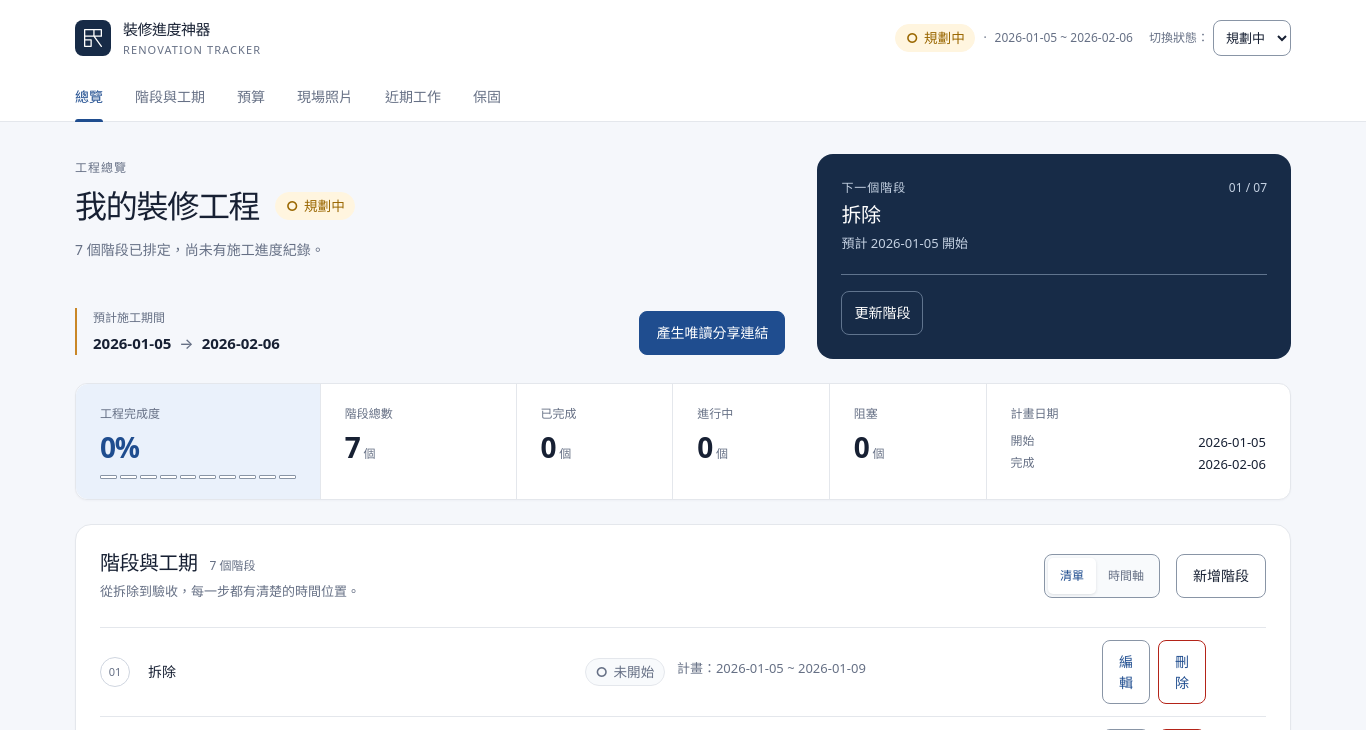
Test case: Dashboard — AC-FR001-04 form validation › rejects empty stage name with a readable error
Click the button with test id "add-stage" at (1221,576), box left=1176, top=554, right=1266, bottom=598
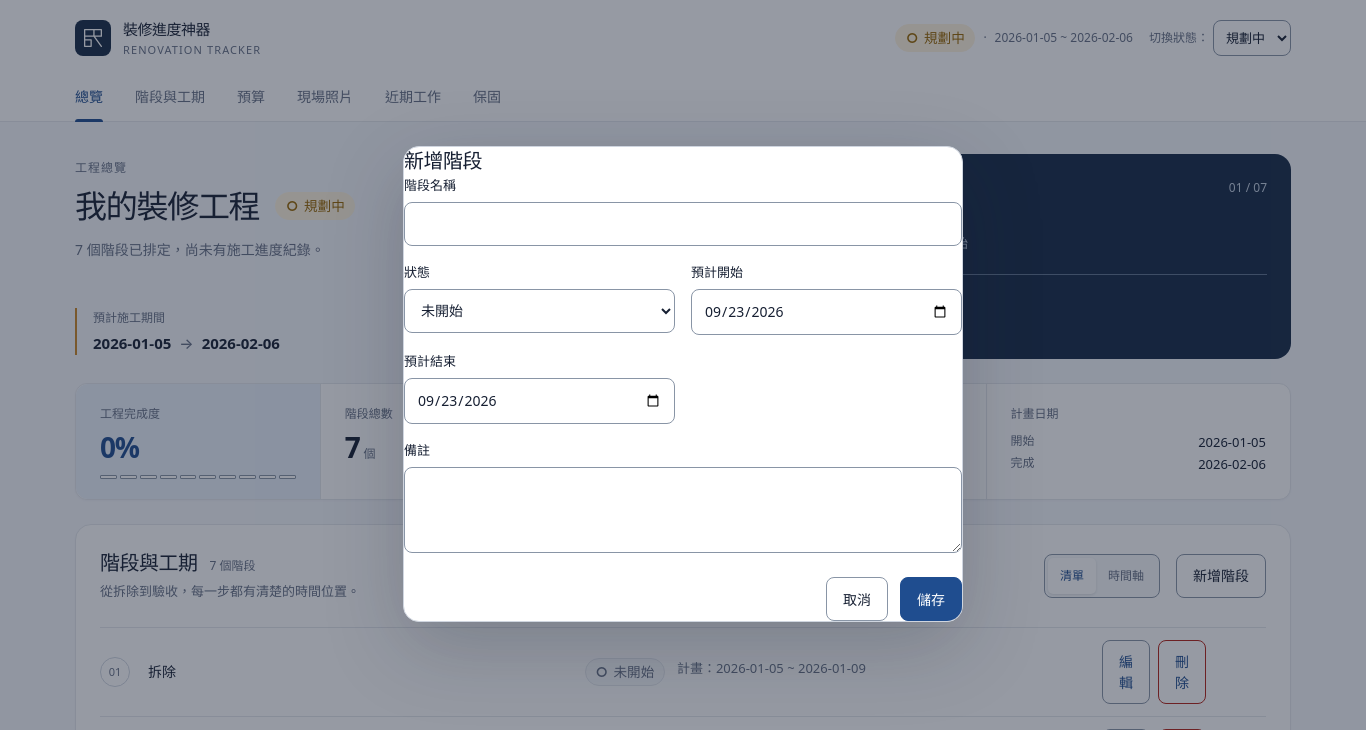
Click the button "儲存" at (931,599), box left=900, top=577, right=962, bottom=621
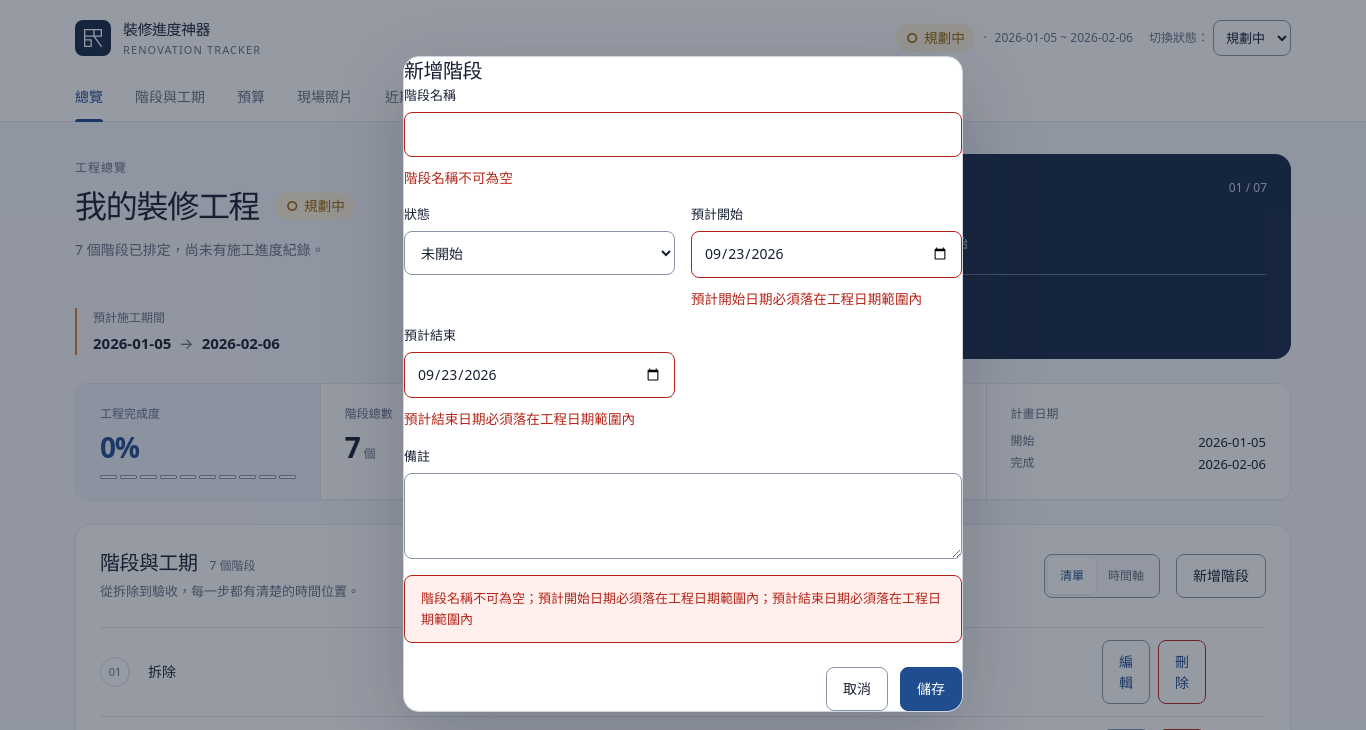
Expected: the text with test id "total-stages" reads "7", left=345, top=428, right=360, bottom=466
Expected: the text "階段名稱不可為空" is shown, left=404, top=168, right=513, bottom=187
